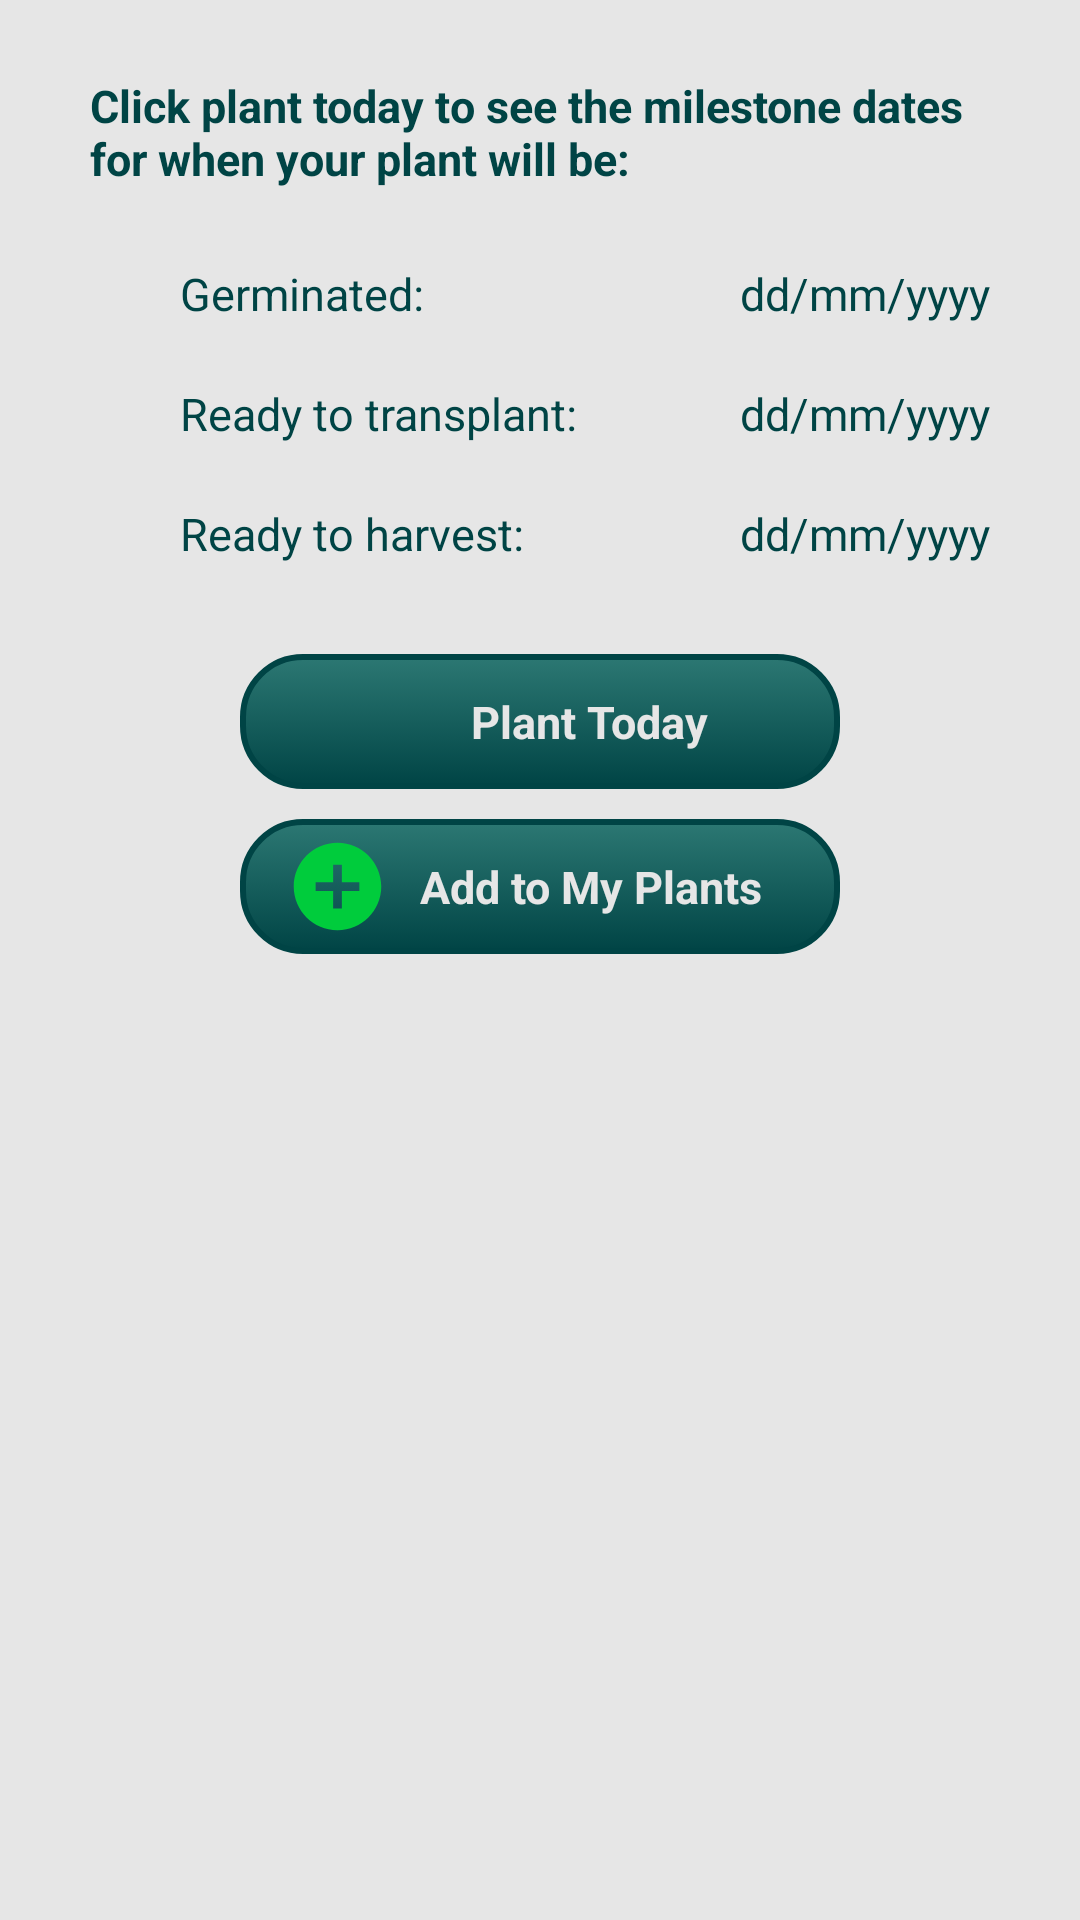

Where to tap for icons on this 1080x1920 app screen, as [x,y]:
Add plant to db: [337,886]
